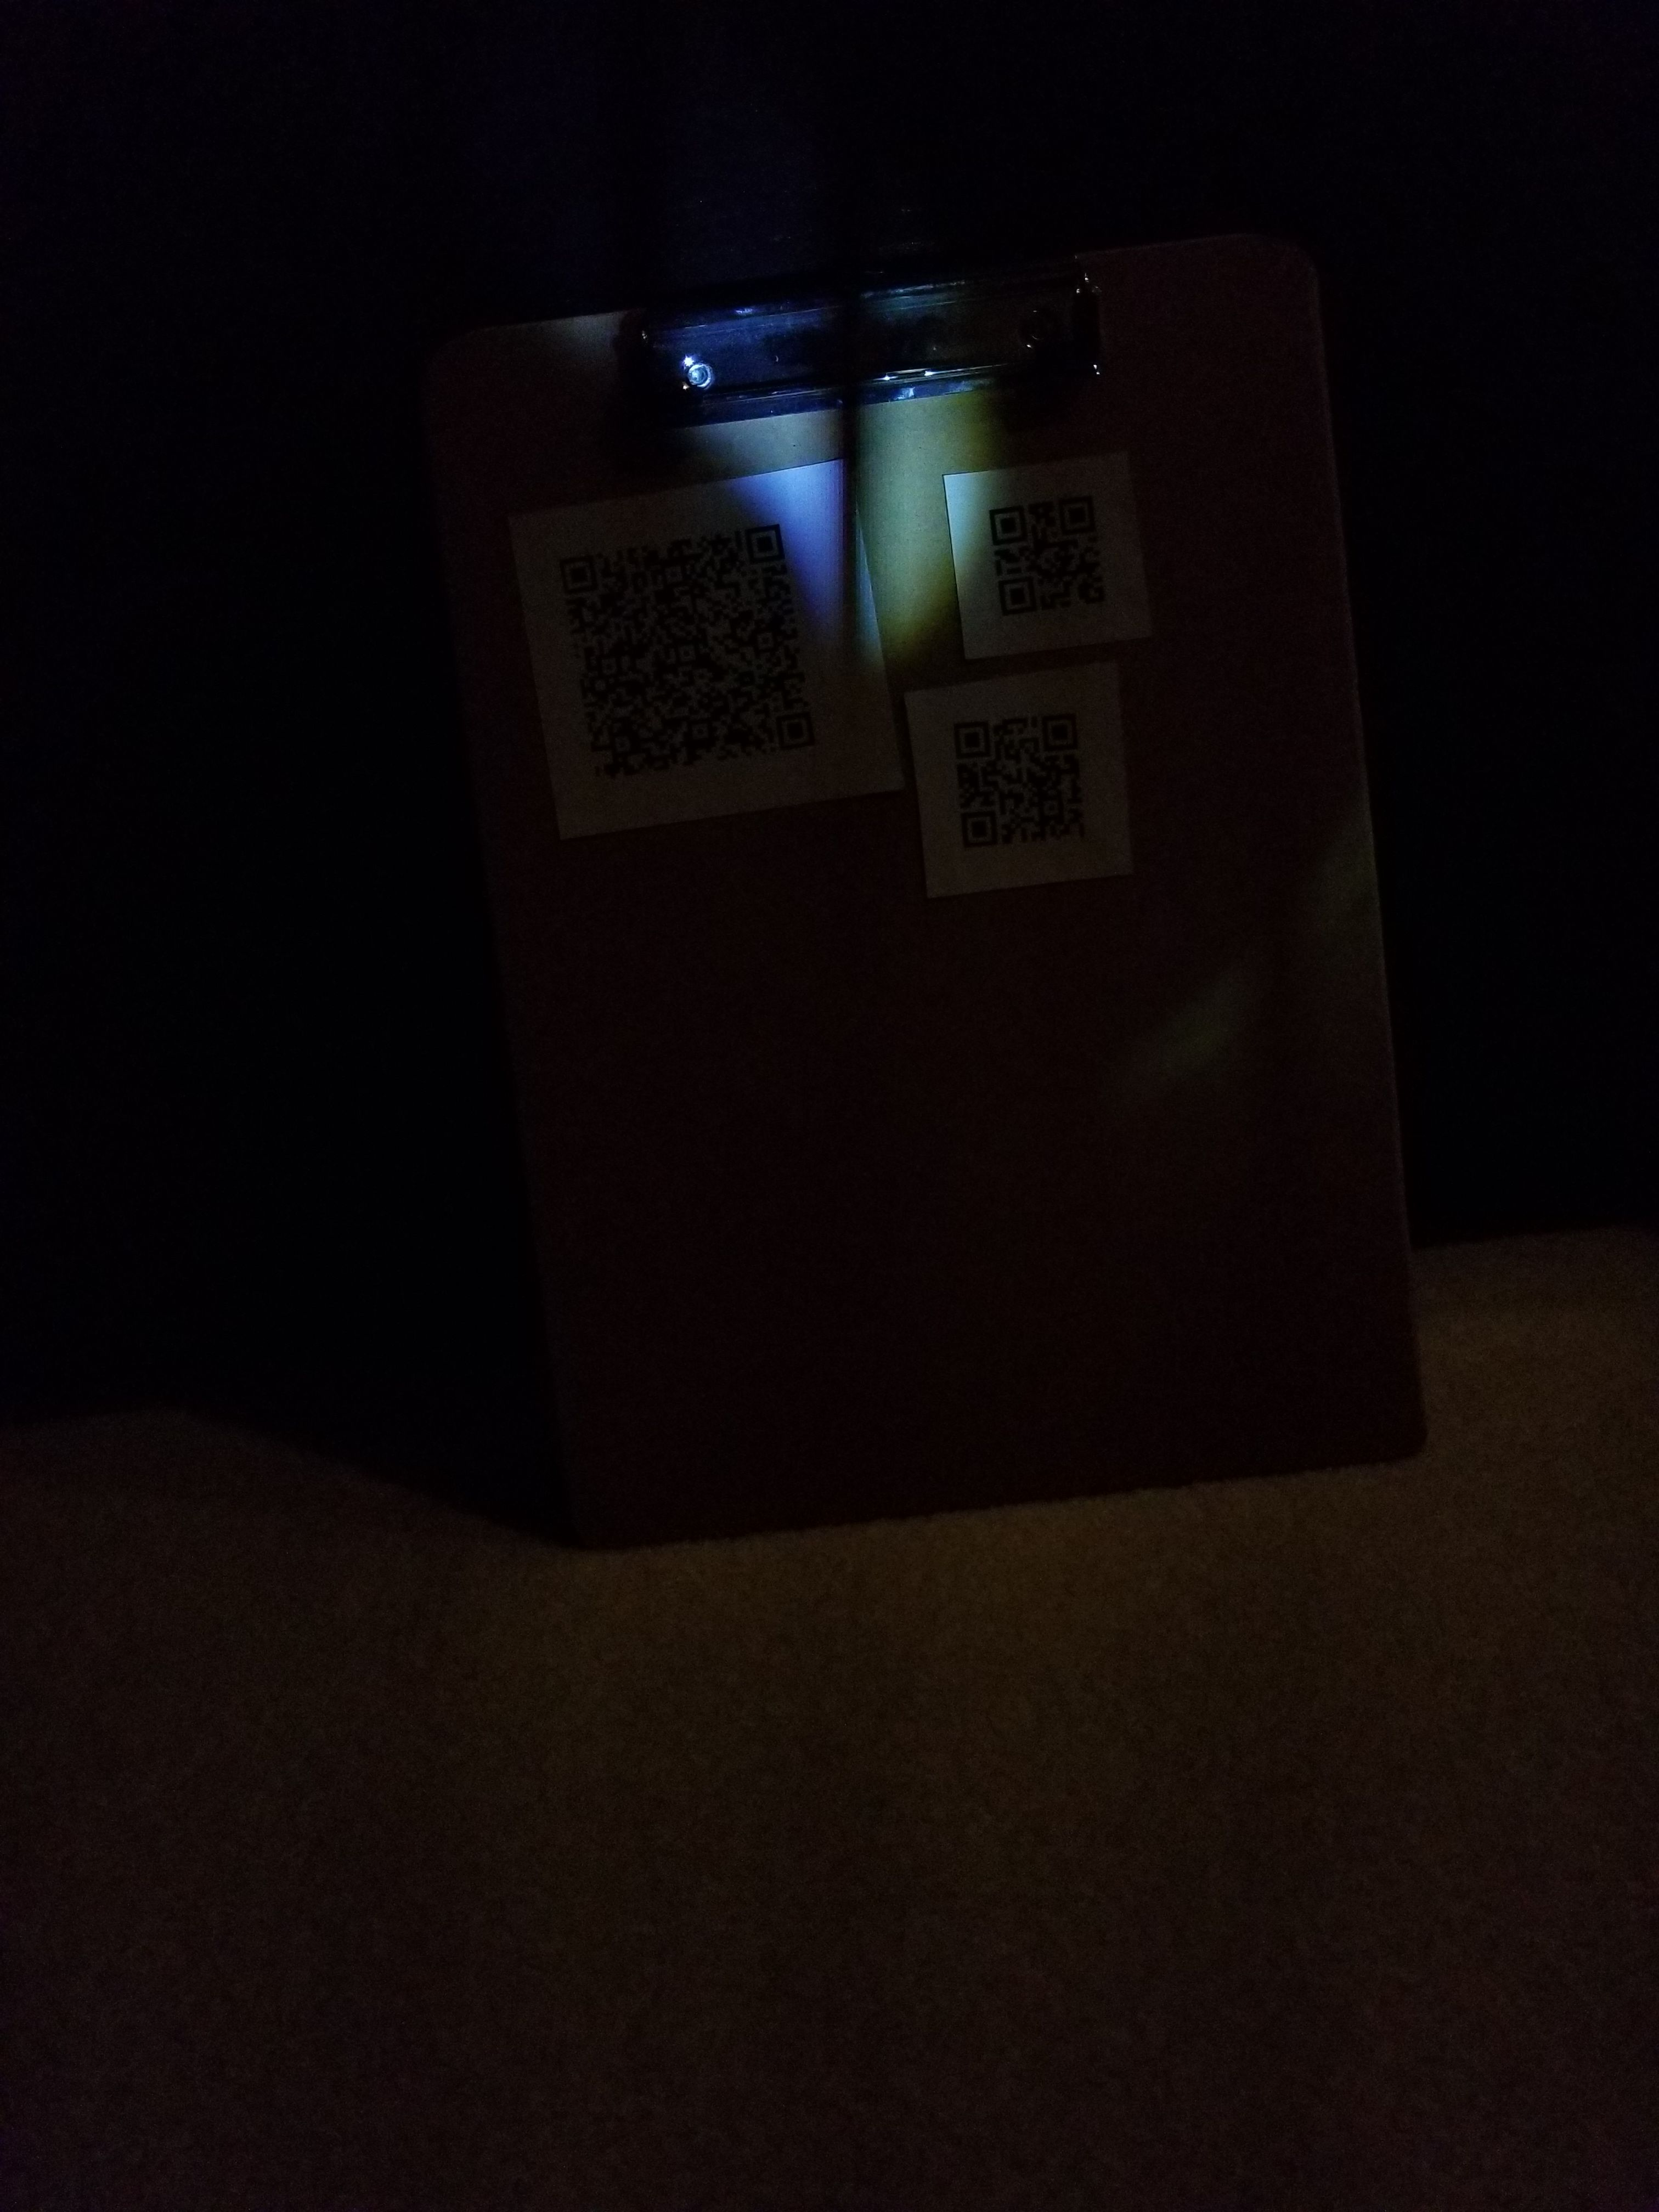QR_CODE: (540, 495, 836, 792), (931, 678, 1148, 878), (972, 474, 1131, 632)
